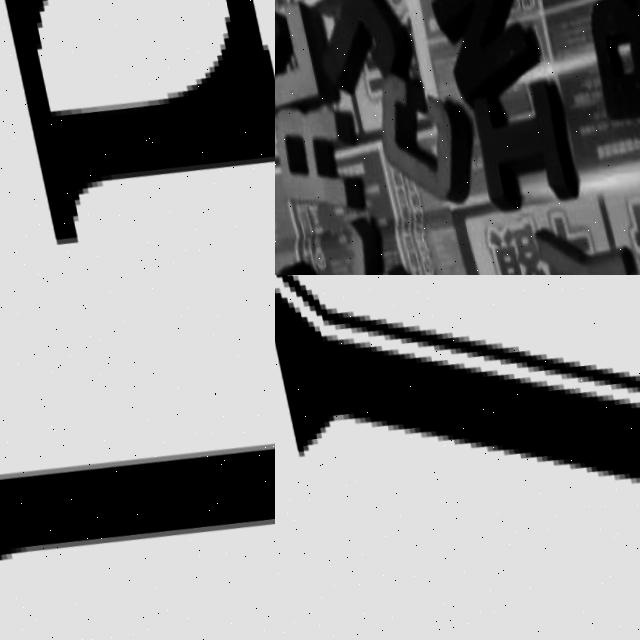B: (578, 0, 640, 123)
C: (364, 56, 477, 219)
D: (0, 275, 275, 637)
E: (2, 0, 275, 242)
I: (275, 275, 640, 477), (460, 72, 580, 216)
J: (305, 0, 419, 98)
L: (275, 0, 335, 119)
N: (422, 0, 539, 106)
P: (275, 0, 296, 99)
R: (275, 95, 366, 210)
X: (303, 215, 414, 275)
Y: (530, 214, 636, 275)
